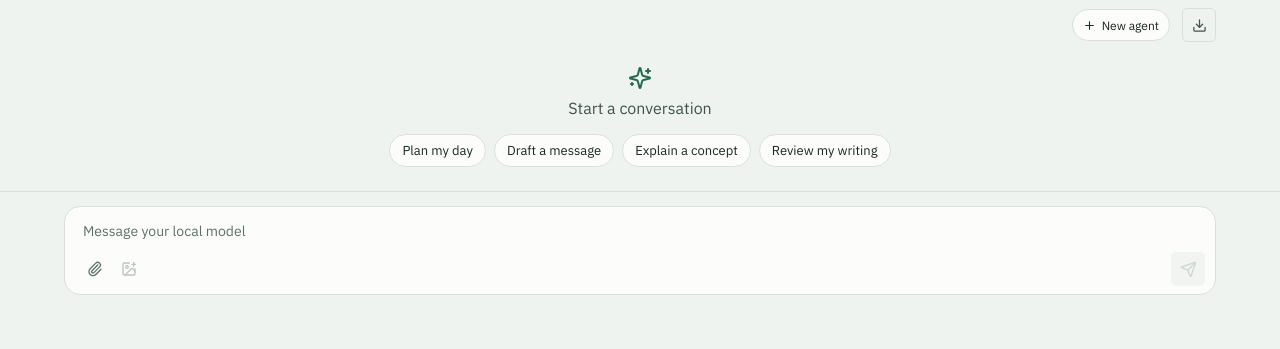
Test: LocalAIChat › shows a clear failure and retries the same turn
The width and height of the screenshot is (1280, 349).
Type "Ciao" into the text box named "Message local AI" at [642, 232], box left=79, top=217, right=1205, bottom=246
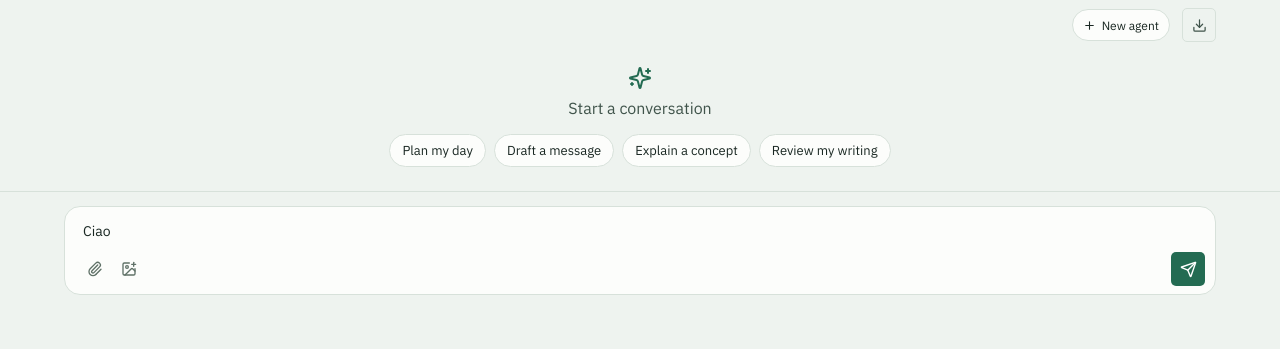
Click the button named "Send to local AI" at [1188, 269], box left=1171, top=252, right=1205, bottom=286
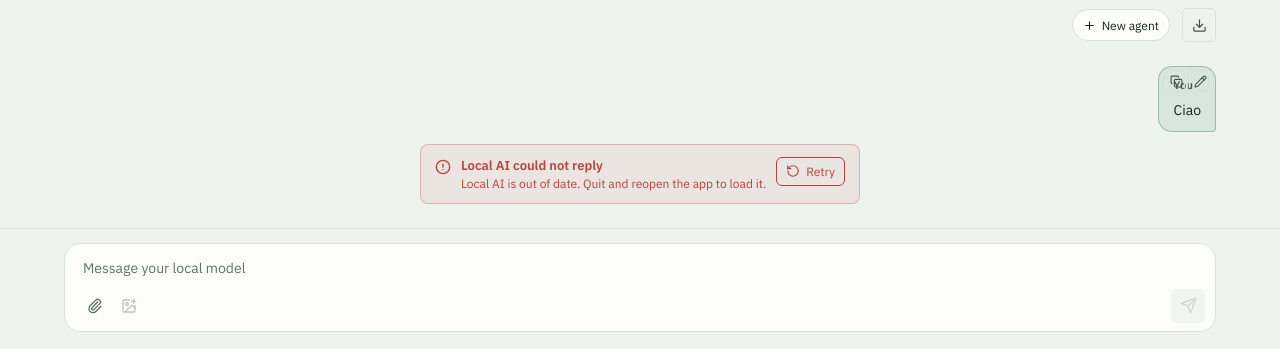
Check: the message shows "Local AI could not reply", box left=461, top=157, right=603, bottom=174
Check: the message shows "Local AI is out of date. Quit and reopen the app to load it.", box left=461, top=176, right=766, bottom=191
Click the button "Retry" at [811, 172], box left=776, top=157, right=845, bottom=186
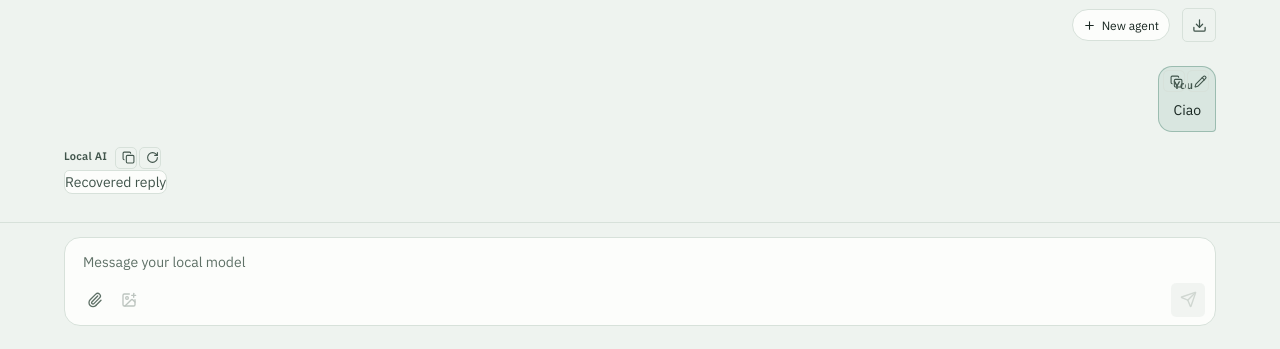
Check: the text "Recovered reply" is shown, box left=65, top=171, right=166, bottom=193
Check: the message is gone
